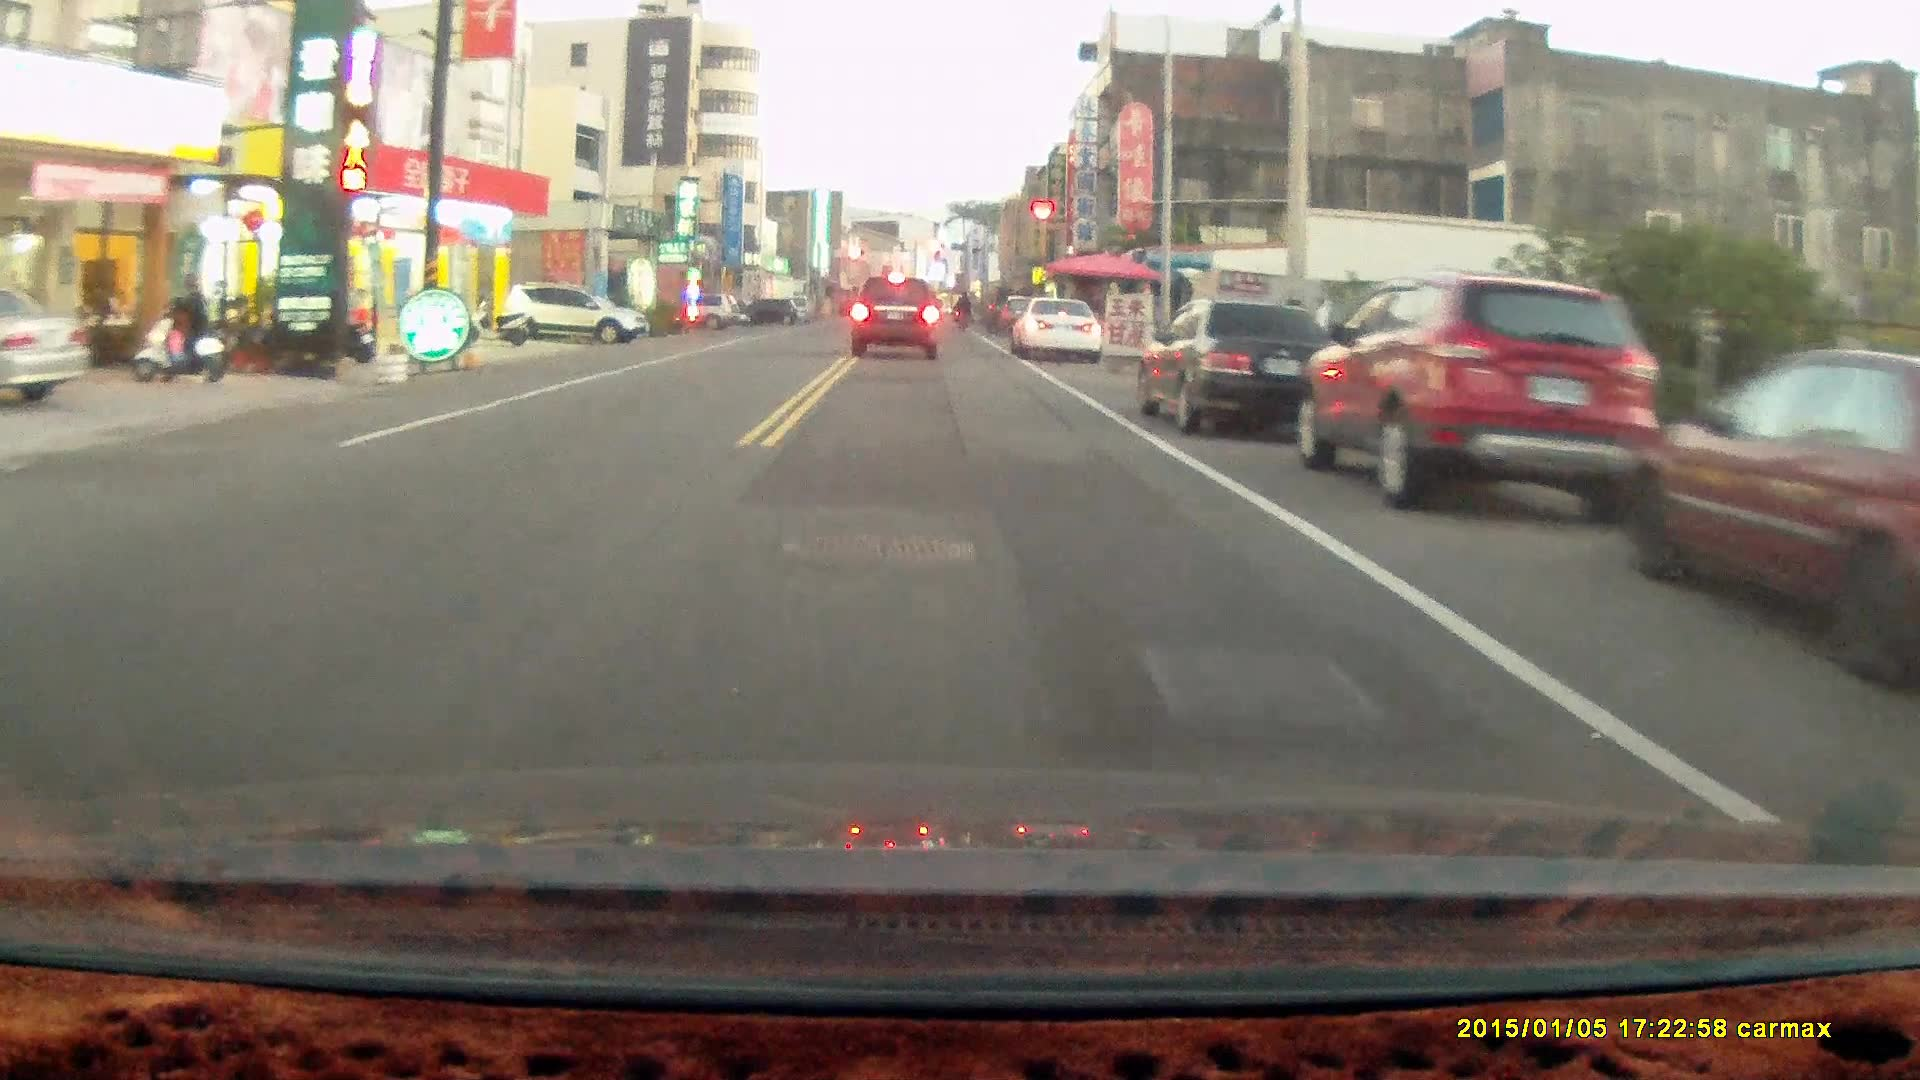vehicle: (1621, 347, 1920, 692), (1302, 278, 1652, 516), (1134, 297, 1327, 442), (504, 281, 655, 353), (1, 287, 88, 407), (851, 276, 942, 361), (1013, 301, 1106, 368)
